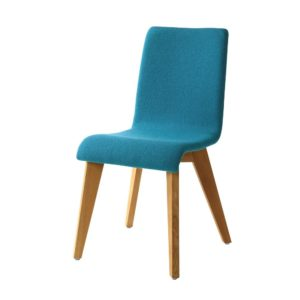chair: (66, 22, 247, 283)
